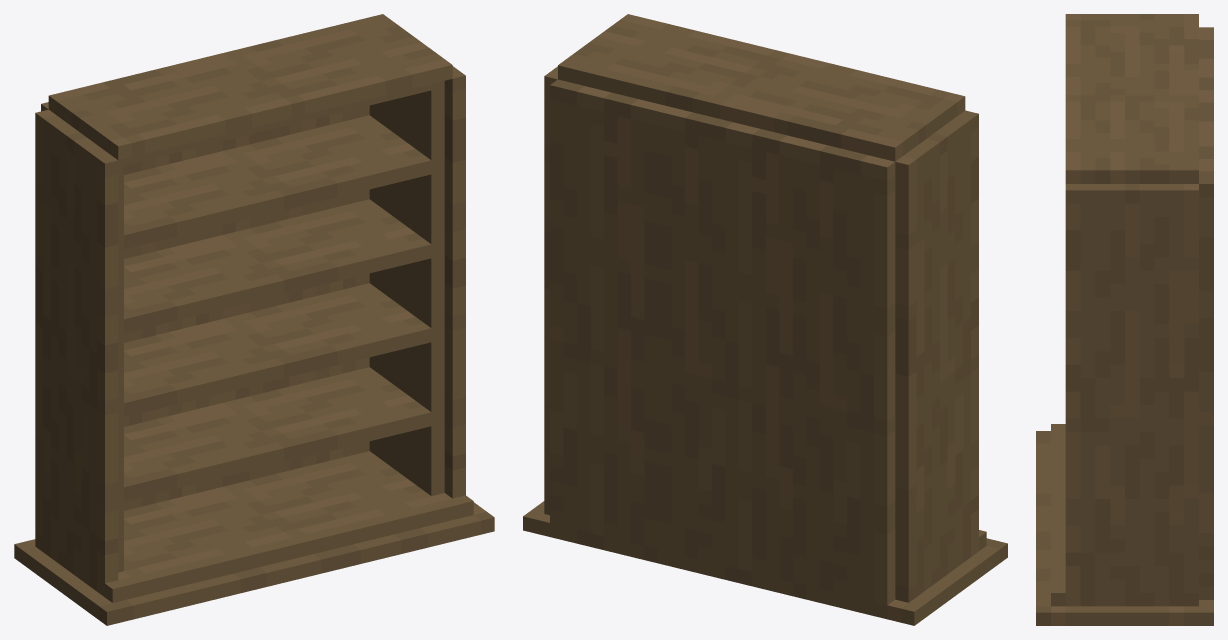
Rendered from Decor-66.obj.
3 renders of one model, left to right at view 1: azimuth 30°, elevation 25°; view 2: azimuth 150°, elevation 25°; view 3: azimuth 270°, elevation 25°, orthographic. The views are drawn at different scales.
Size of the model in its own units: 2.9 by 3.3 by 1.2.
1 material, 1 textured.
